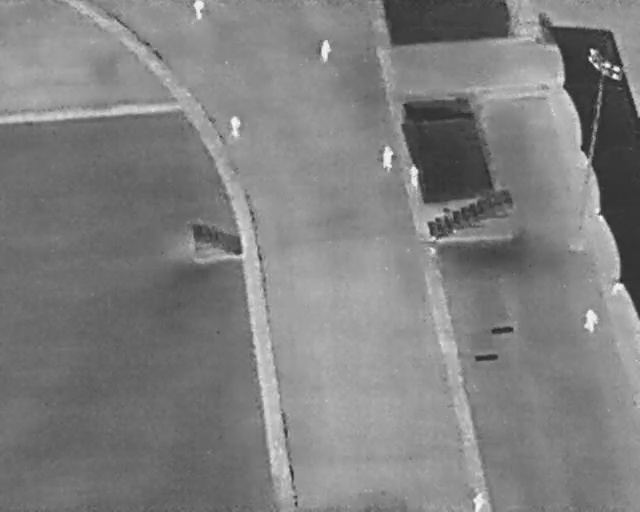Person: (584, 306, 600, 333), (407, 163, 421, 191), (382, 143, 394, 172), (471, 491, 488, 511), (319, 37, 332, 63), (229, 115, 242, 139), (193, 0, 206, 20)
